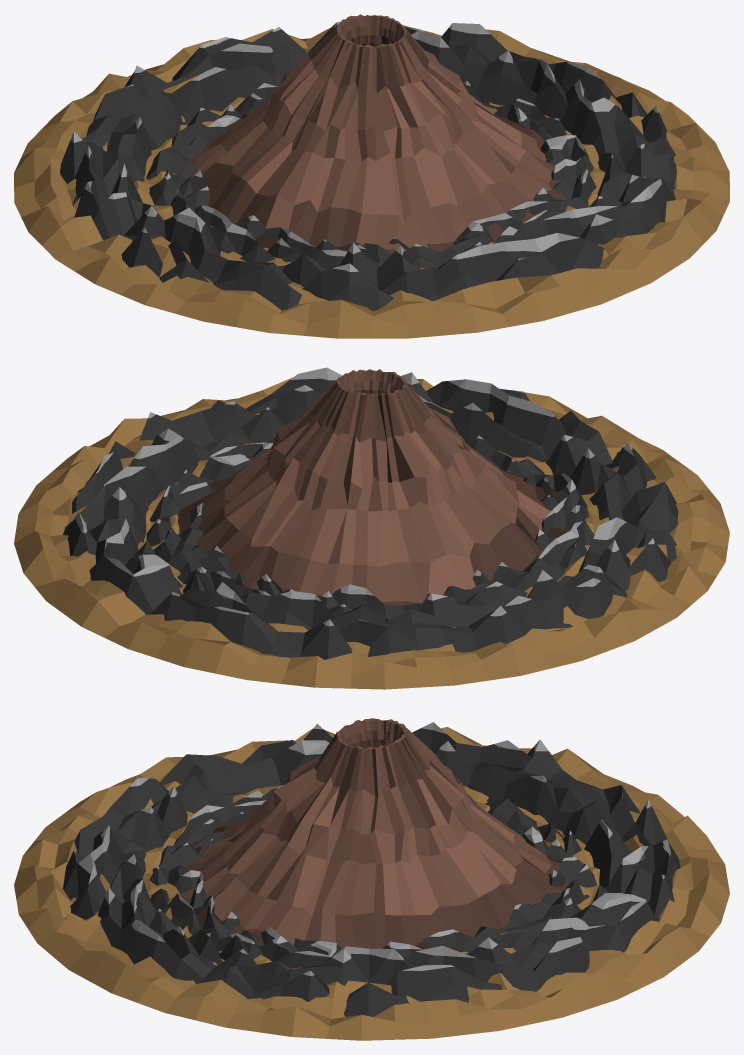
File: environment.glb
3 renders of one model, top to bottom at view 1: azimuth 30°, elevation 25°; view 2: azimuth 150°, elevation 25°; view 3: azimuth 270°, elevation 25°, orthographic.
Parts seen in each view (by area): view 1: Bottom.001, Cone, OriginalRing.001, Bottom, OriginalRing; view 2: Bottom.001, Cone, OriginalRing.001, Bottom, OriginalRing; view 3: Bottom.001, Cone, OriginalRing.001, Bottom, OriginalRing.
Part boxes in pixels (x1,y1,x2,y2): Bottom.001: [60, 21, 676, 311]; Cone: [176, 14, 566, 253]; OriginalRing.001: [14, 25, 729, 338]; Bottom: [146, 80, 596, 269]; OriginalRing: [134, 97, 605, 269]; Bottom.001: [63, 367, 678, 659]; Cone: [177, 369, 565, 605]; OriginalRing.001: [14, 377, 729, 689]; Bottom: [146, 434, 594, 619]; OriginalRing: [138, 443, 609, 609]; Bottom.001: [63, 722, 680, 1016]; Cone: [168, 718, 568, 952]; OriginalRing.001: [14, 727, 729, 1040]; Bottom: [149, 787, 596, 968]; OriginalRing: [142, 785, 599, 968].
Size of what is drawn, in the model's own units: 3886 by 1039 by 3886.
